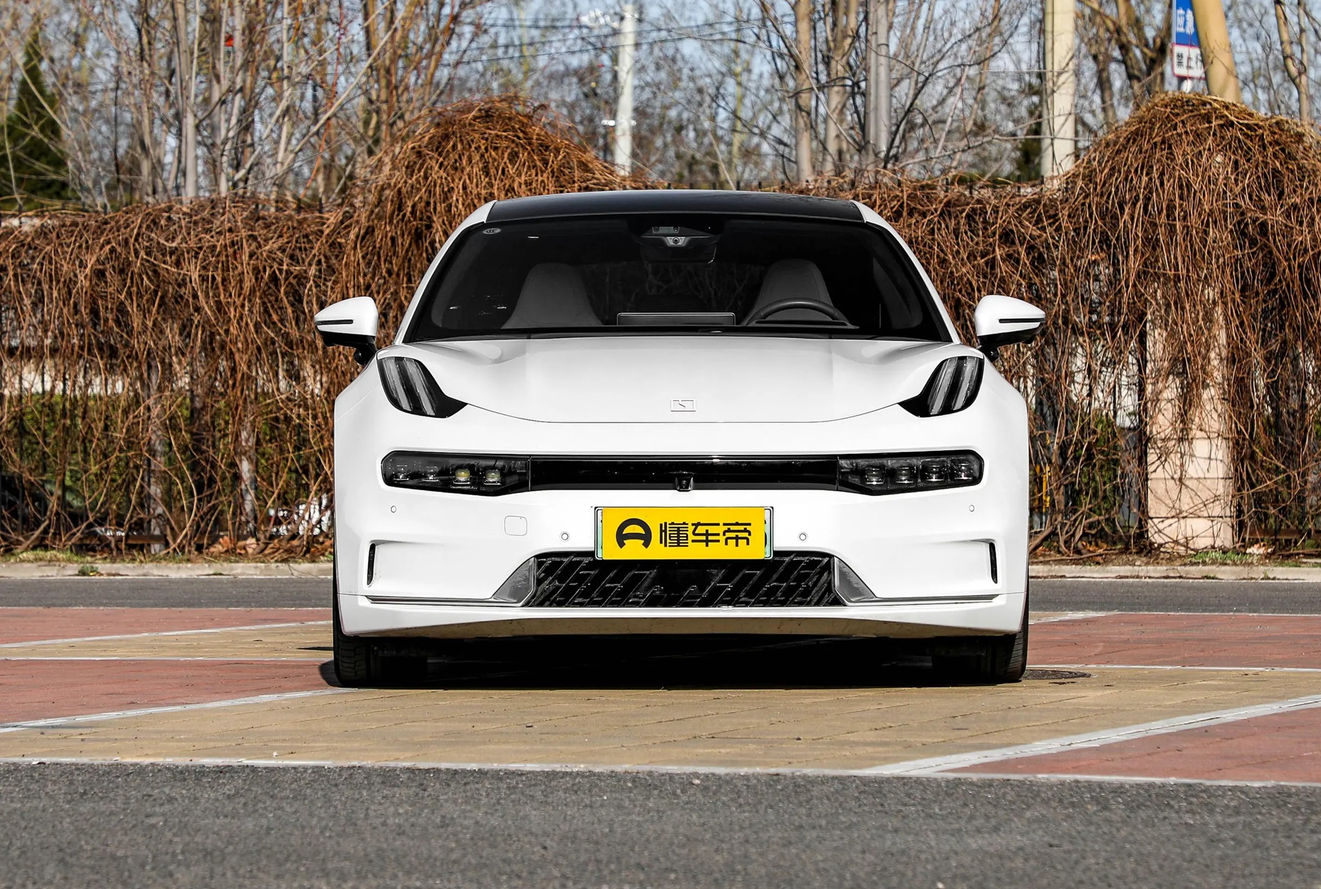ZEEKR: (671, 398, 695, 411)
